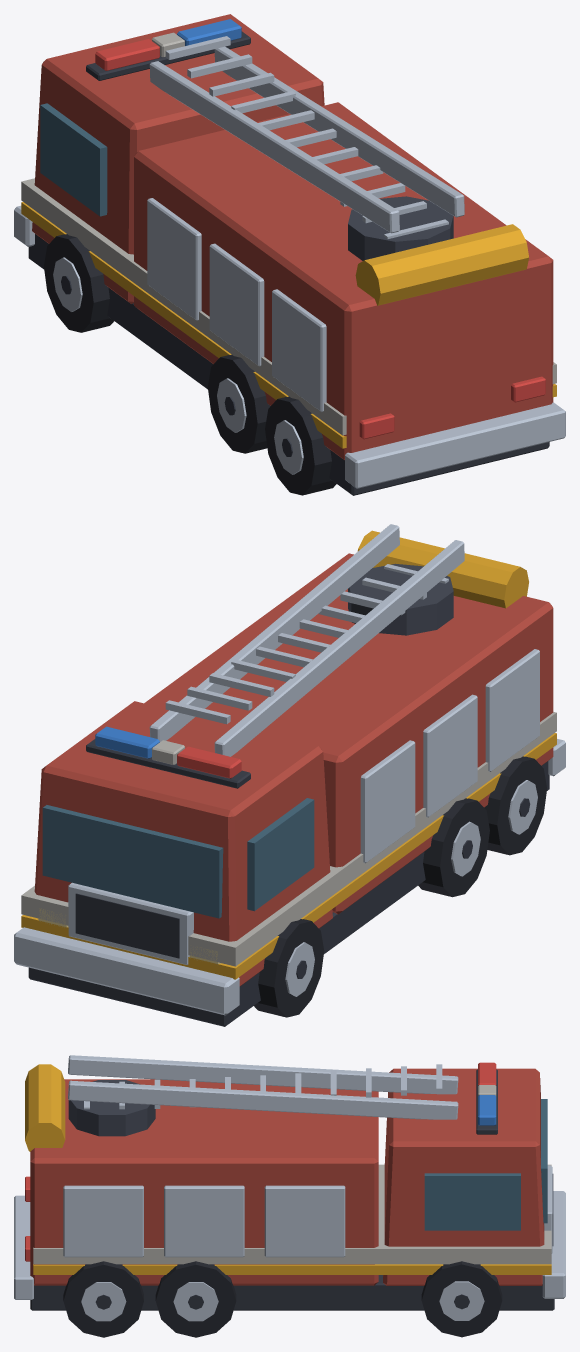
File: Stylized_Vehicle_FireTruck.fbx
3 renders of one model, top to bottom at view 1: azimuth 30°, elevation 25°; view 2: azimuth 150°, elevation 25°; view 3: azimuth 270°, elevation 25°, orthographic. The views are drawn at different scales.
Visible parts, largest first — view 1: Stylized_Vehicle_FireTruck; view 2: Stylized_Vehicle_FireTruck; view 3: Stylized_Vehicle_FireTruck.
Boxes of the visible parts, <box> form: Stylized_Vehicle_FireTruck: <box>14,14,565,495</box>; Stylized_Vehicle_FireTruck: <box>14,524,565,1026</box>; Stylized_Vehicle_FireTruck: <box>14,1055,565,1337</box>.
Size of the model in its own units: 2.65 by 2.93 by 6.58.
